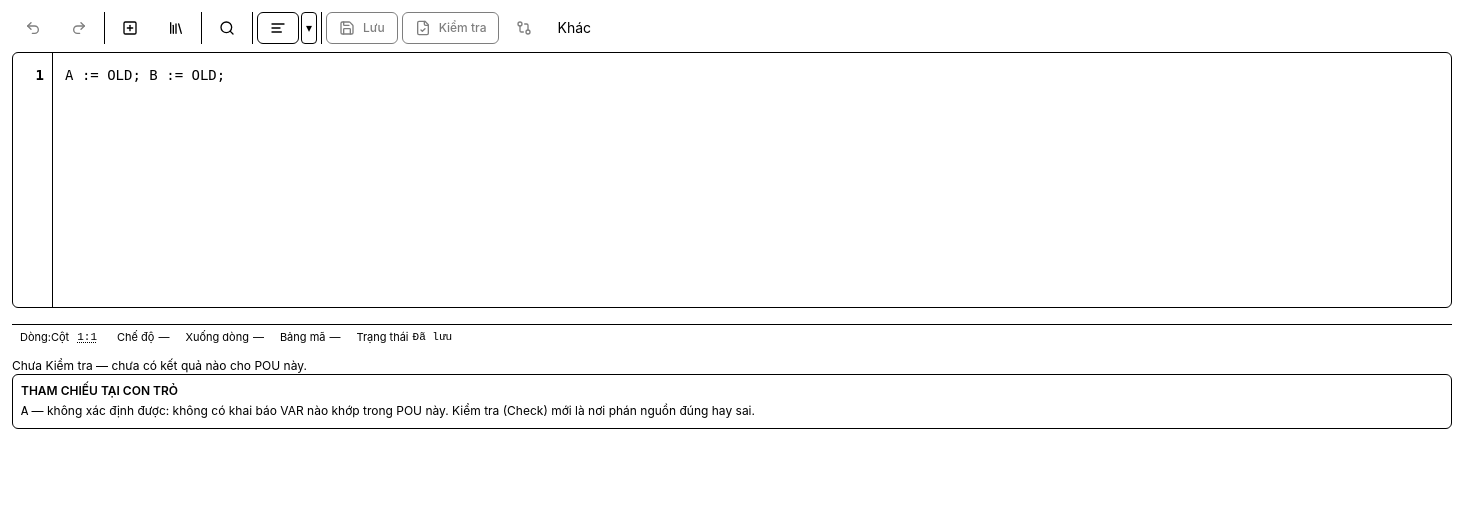
SourceEditor — WP-10 P0 (CTO/Owner approval 2026-08-15 §4-6) › Thay chỉ đổi lần khớp kế tiếp: DOM value/selection cập nhật đồng bộ
Click the button named "Tìm/Thay (Ctrl+F)" at (227, 28), box [206,12,248,44]
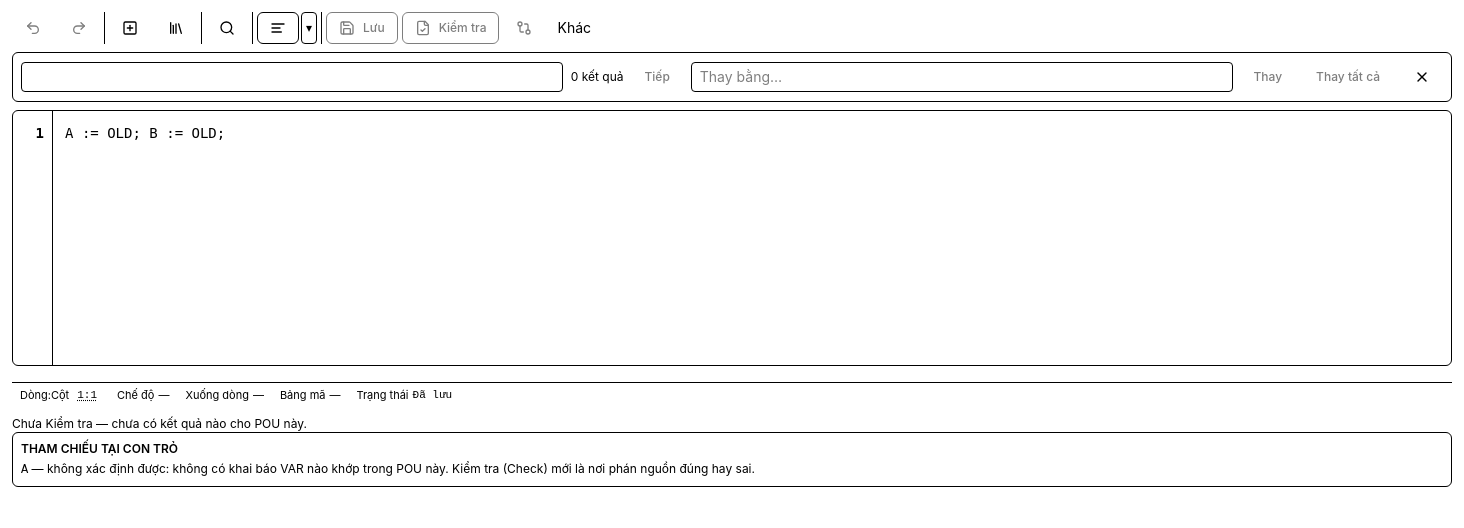
Type "OLD" into the 1st field at (292, 77), box [21,62,563,92]
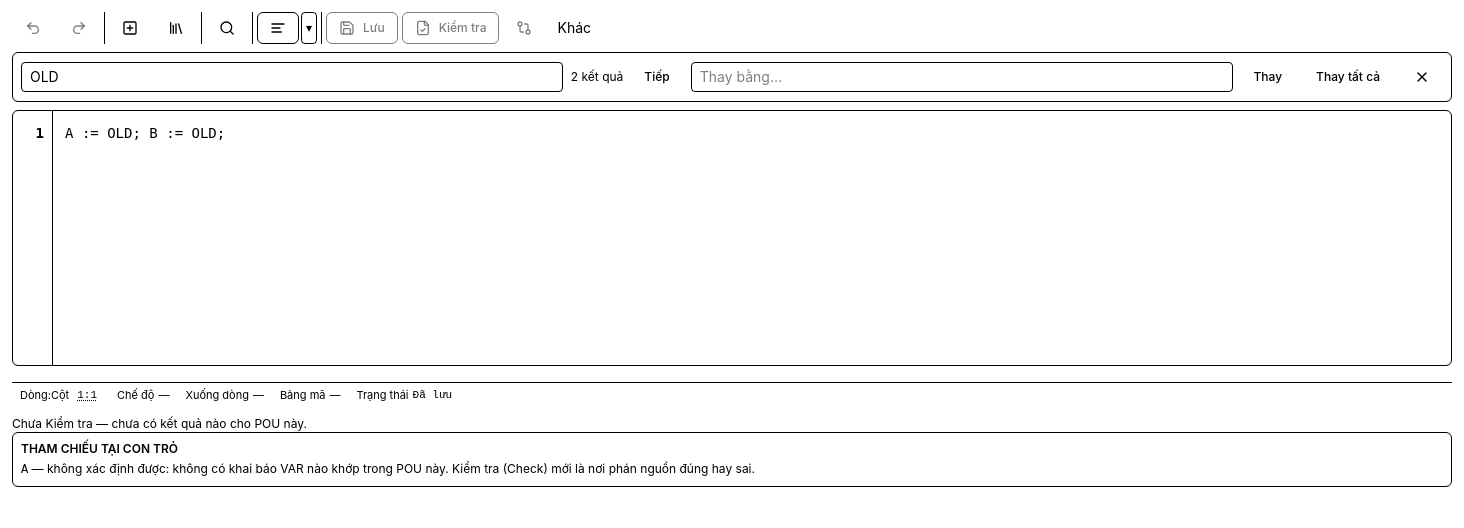
Type "NEW" into the field with placeholder "Thay bằng…" at (962, 77), box [691,62,1232,92]
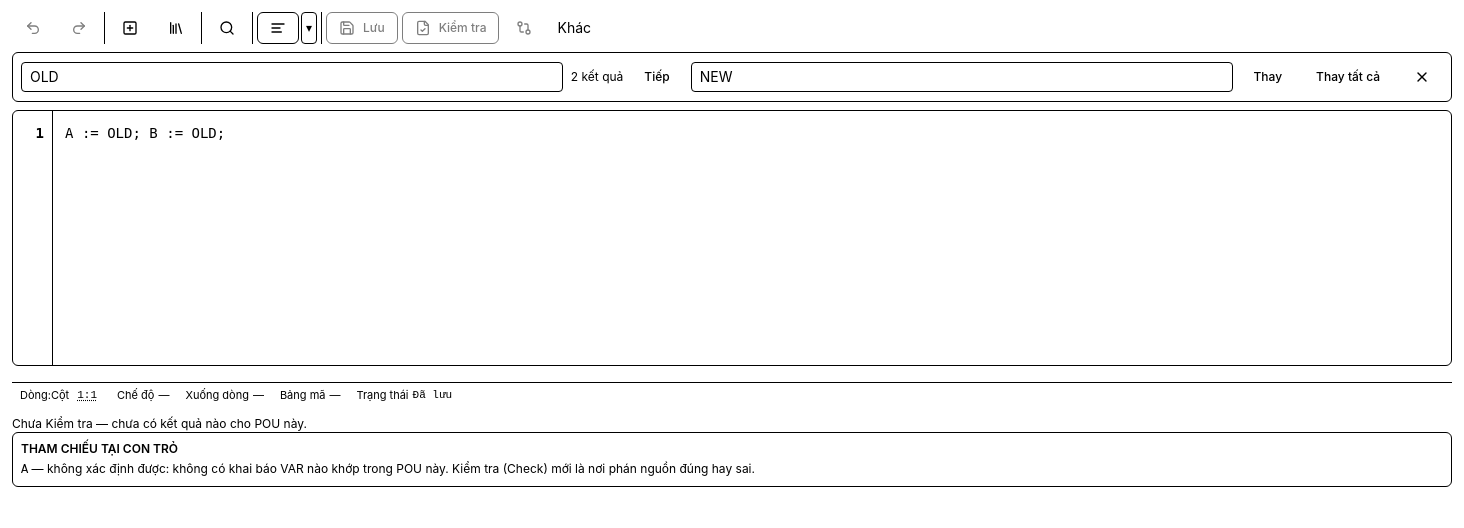
Click the button "Thay" at (1268, 77), box [1240,61,1295,93]
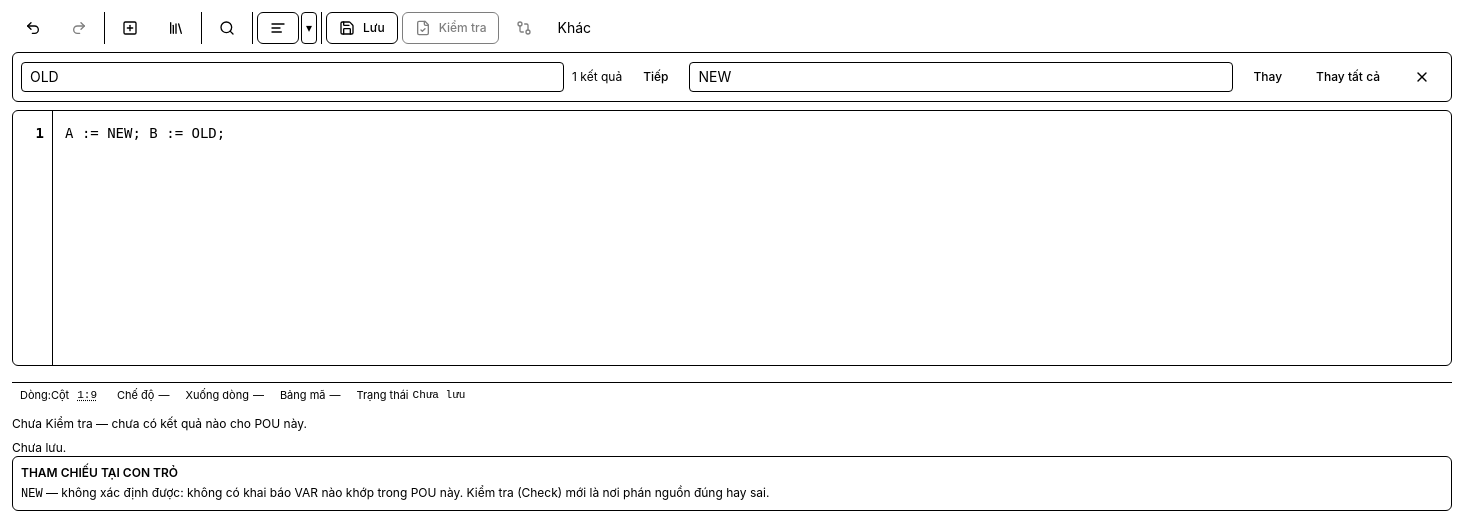
Expected: the text box named "Mã nguồn ST" holds "A := NEW; B := OLD;", [53,111,1451,365]
